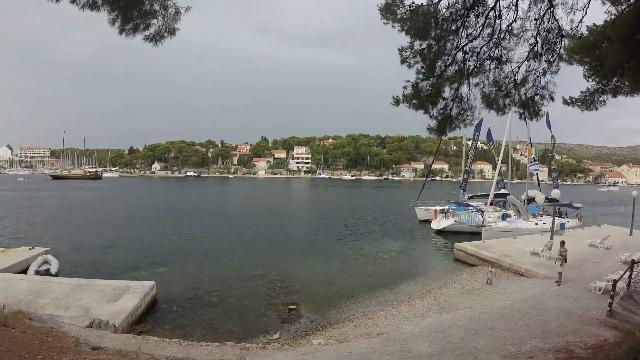Freighter: (41, 165, 108, 183)
